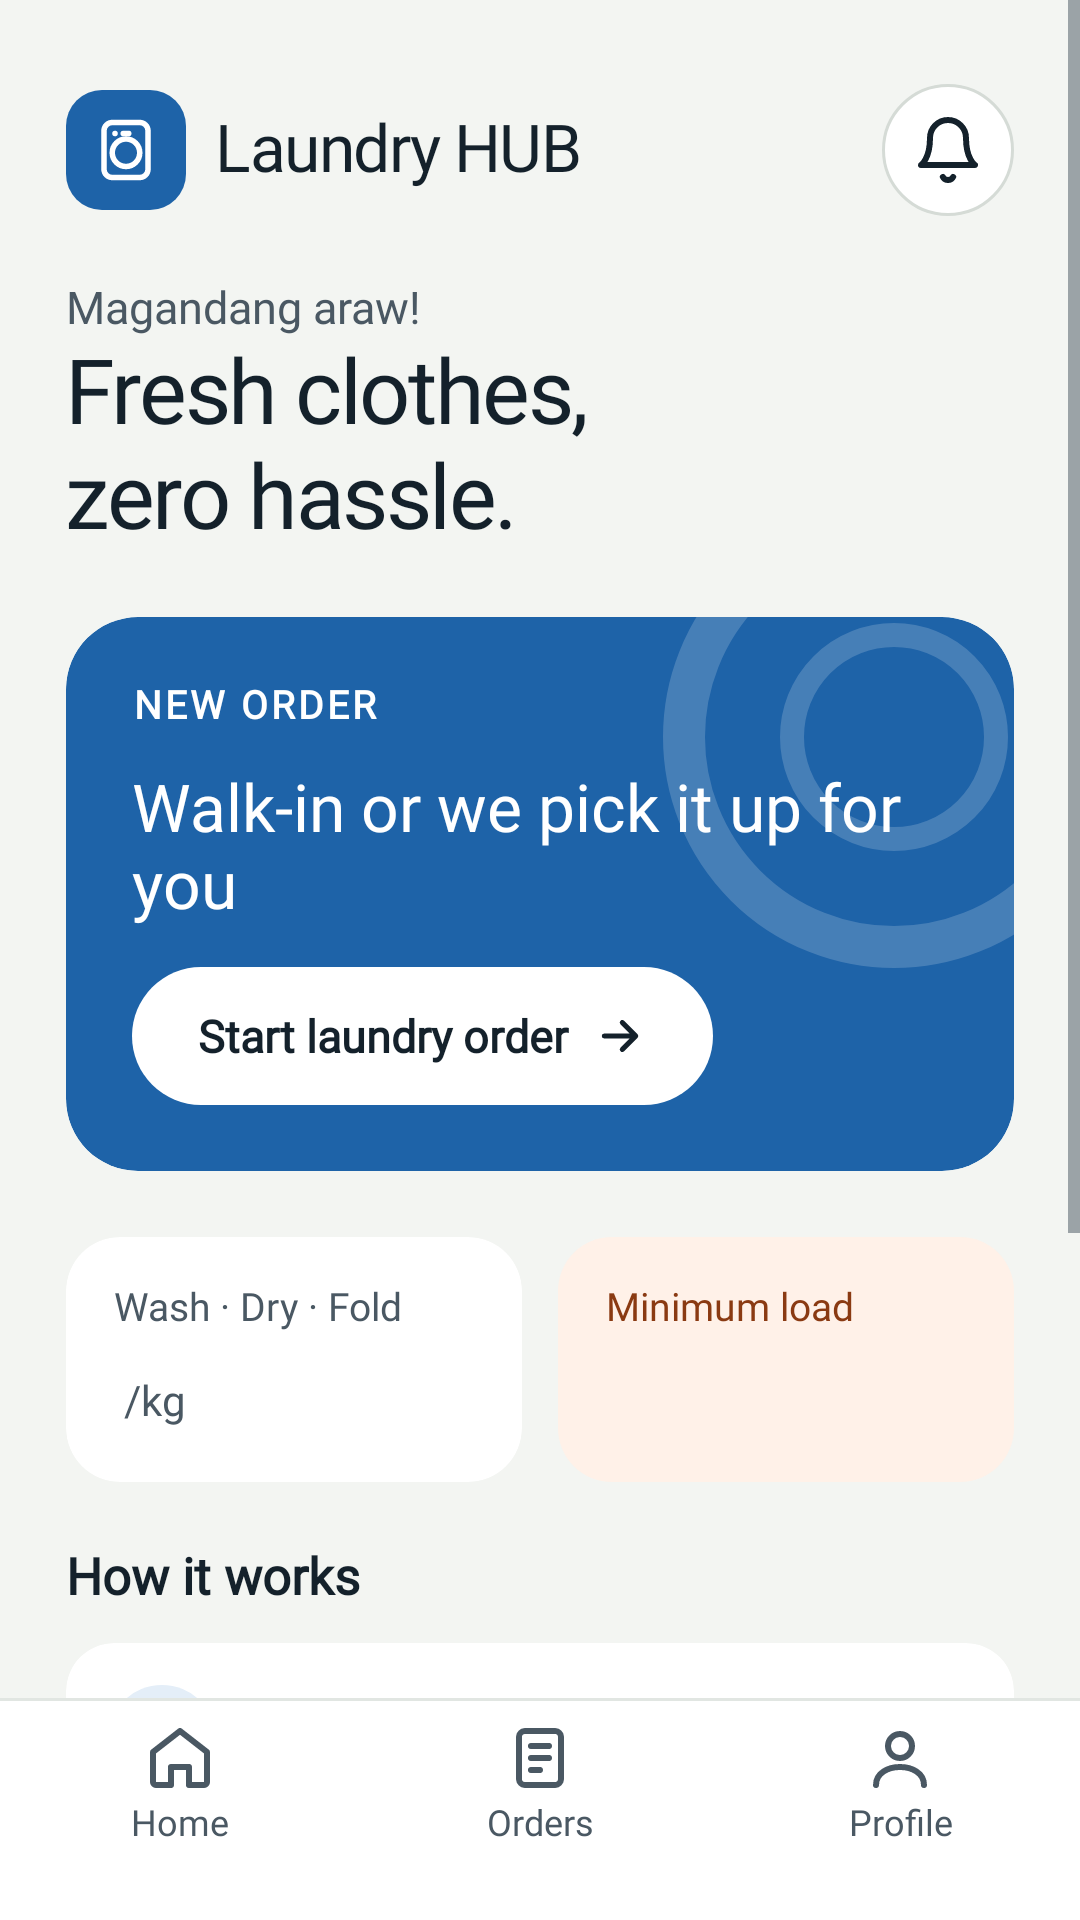

Icons on this 1080px×1920px Android screen, each with the point to tap as [x,y]:
Notifications: [948,150]
